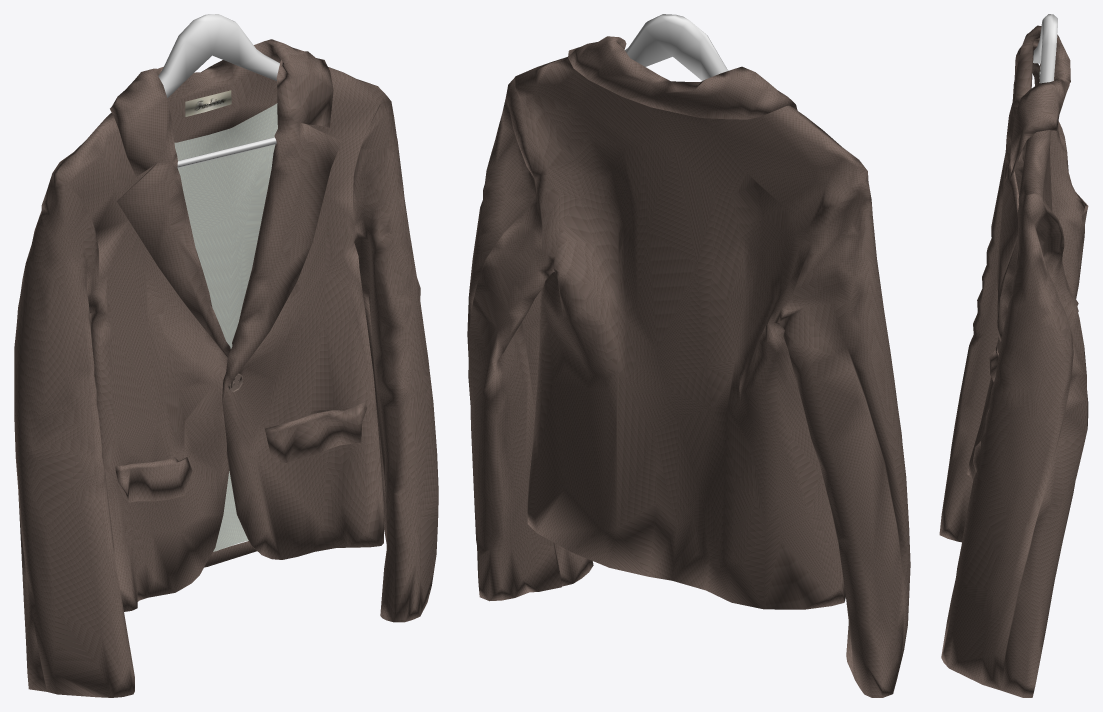
Rendered from hvtop_jaket_w.glb.
3 views of the same model, side by side, from view 1: azimuth 30°, elevation 25°; view 2: azimuth 150°, elevation 25°; view 3: azimuth 270°, elevation 25° (orthographic). The views are drawn at different scales.
Parts seen in each view (by area): view 1: BP_jaket_w; view 2: BP_jaket_w; view 3: BP_jaket_w.
Boxes of the visible parts, x1,y1,x2,y2 form: BP_jaket_w: (14,14,438,697); BP_jaket_w: (467,14,910,697); BP_jaket_w: (939,14,1088,697).
Bounding box in the file's own units: 0.514 × 0.7402 × 0.1687.
5 materials, 3 textured.
